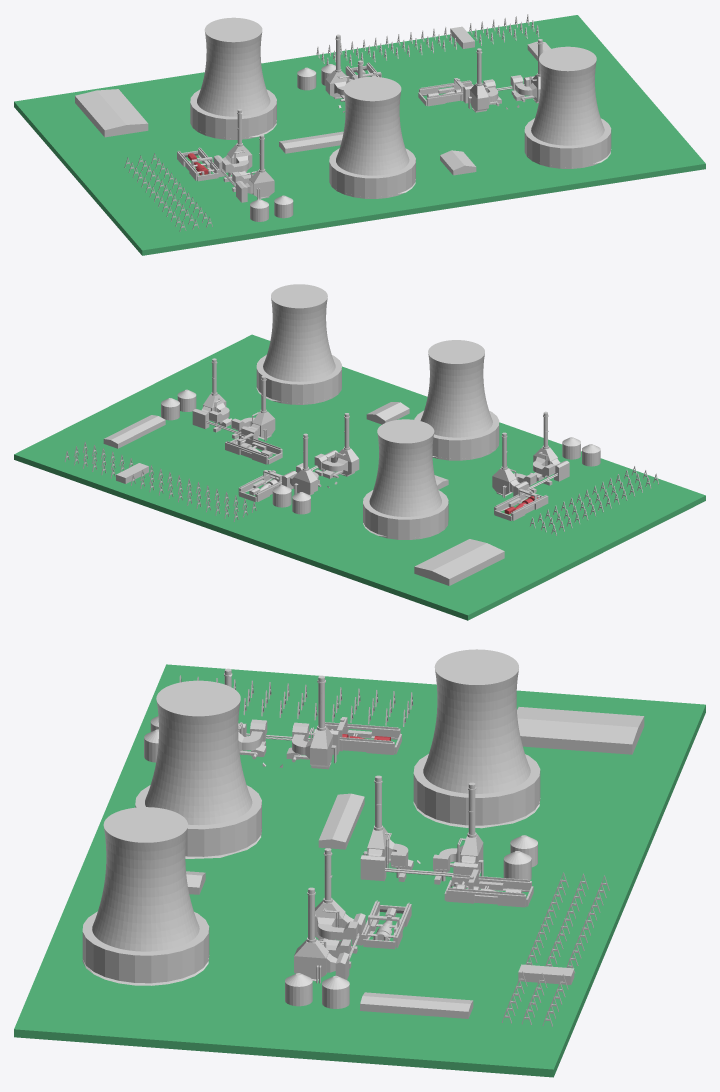
File: CCPPv2.glb
The picture shows the model from 3 angles, top to bottom: view 1: azimuth 30°, elevation 25°; view 2: azimuth 150°, elevation 25°; view 3: azimuth 270°, elevation 25°; orthographic projection. The views are drawn at different scales.
Bounding box in the file's own units: 4.37 × 0.7348 × 3.16.
